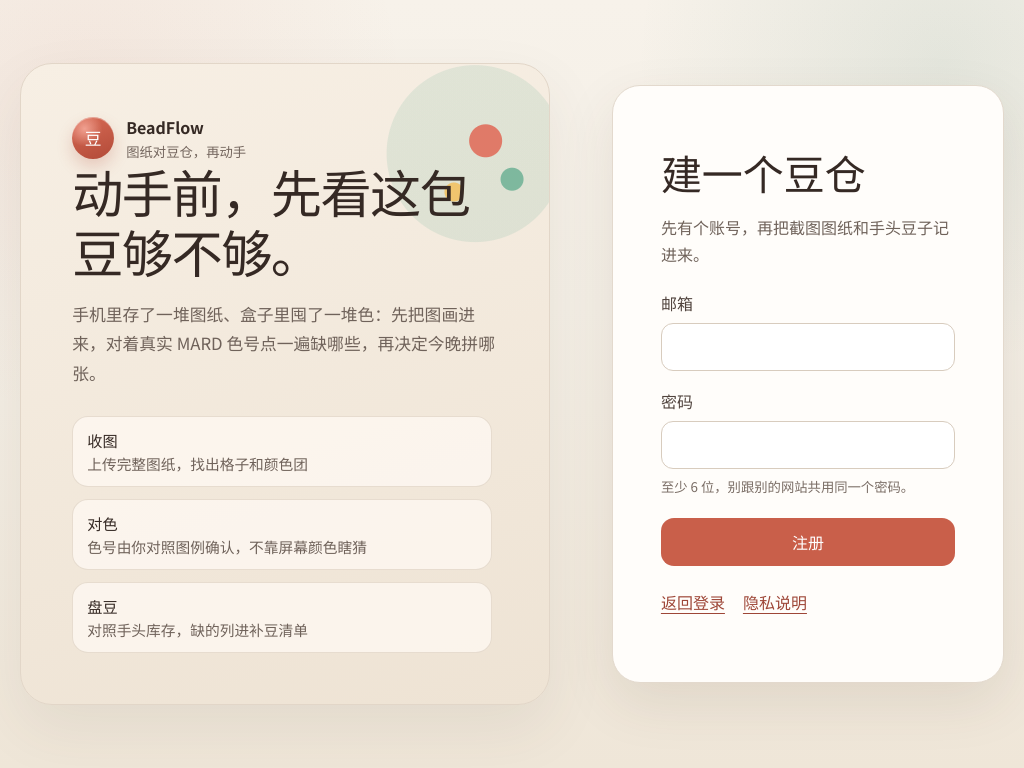
authenticated application shell › handles email-confirmation registration without pretending the user is signed in
Expected: the heading "建一个豆仓" is shown, [661,142,866,202]
In the field labelled "邮箱": [808, 347] box [661,323,955,371], type "maker@example.com"
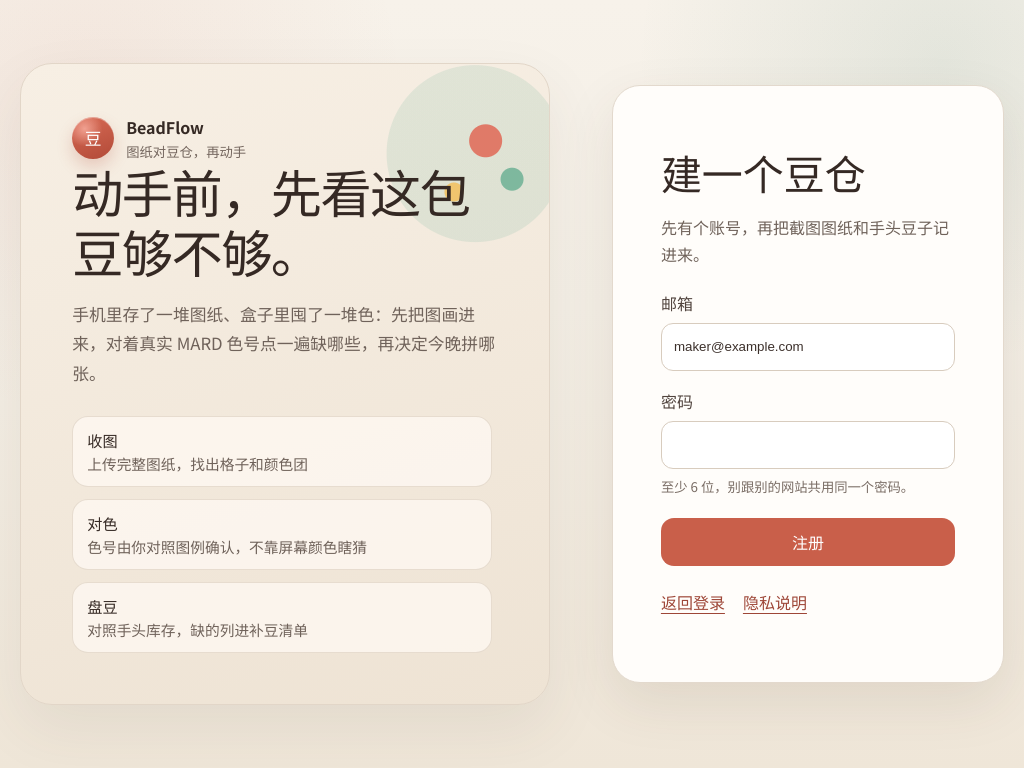
In the password field labelled "密码 至少 6 位，别跟别的网站共用同一个密码。": [808, 445] box [661,421,955,469], type "safe-password"
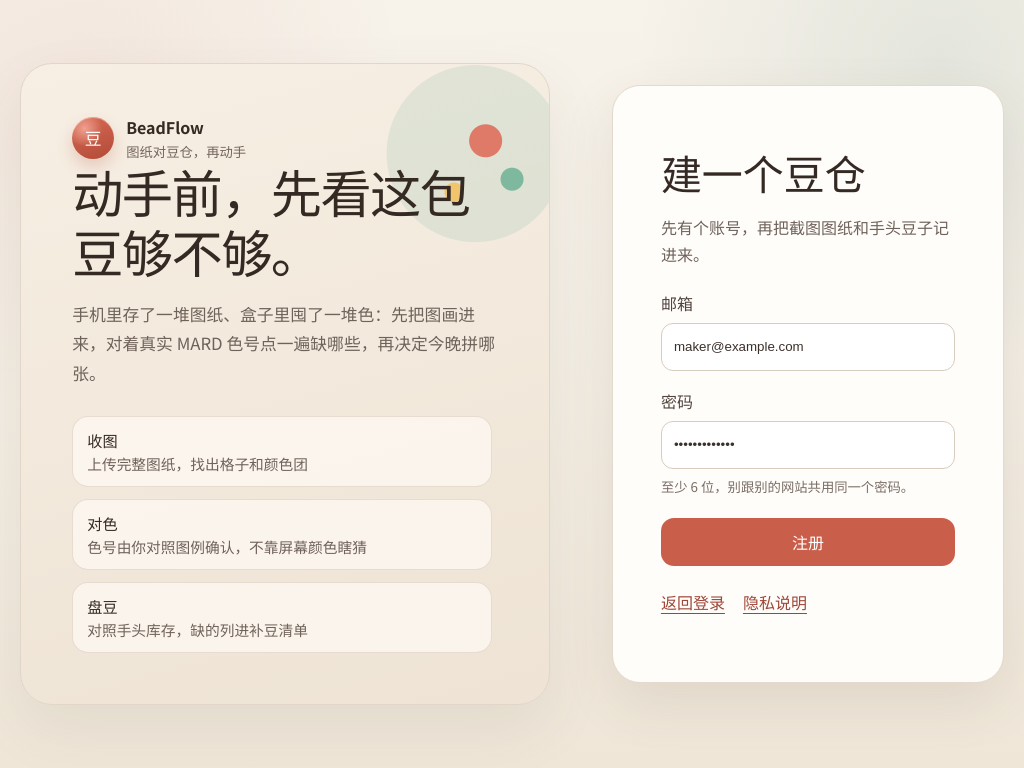
Click the button "注册": [808, 542] box [661,518,955,566]
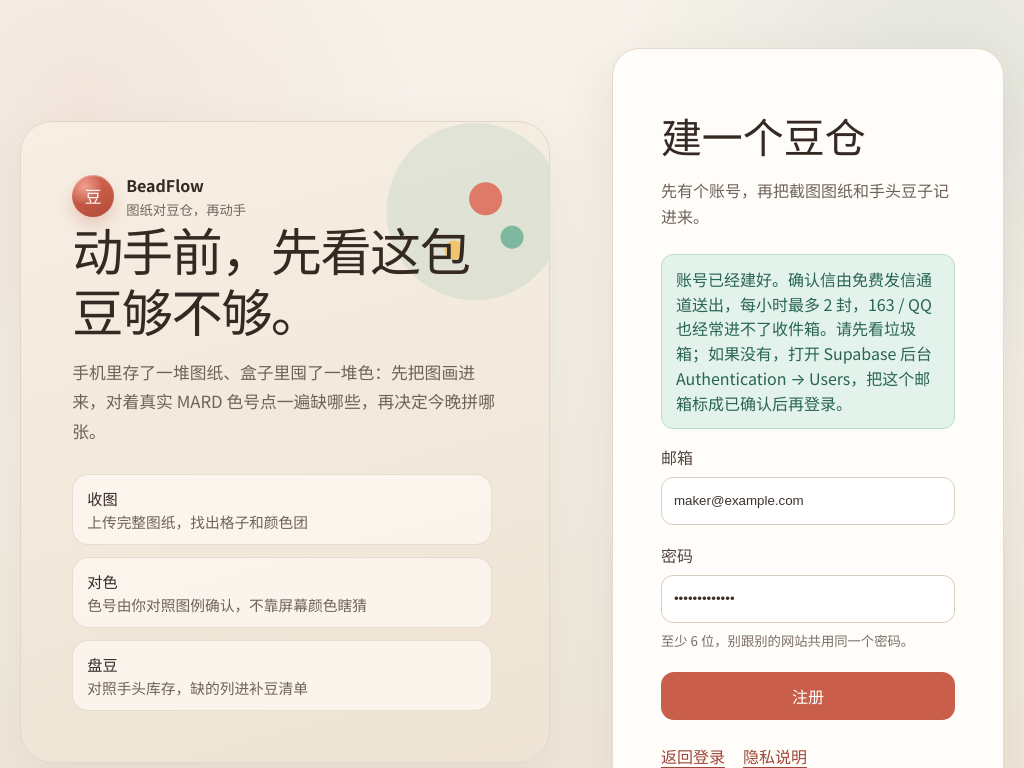
Expected: the heading "建一个豆仓" is shown, [661,105,866,165]
Result: the message shows "账号已经建好" at [676,267,932,415]
